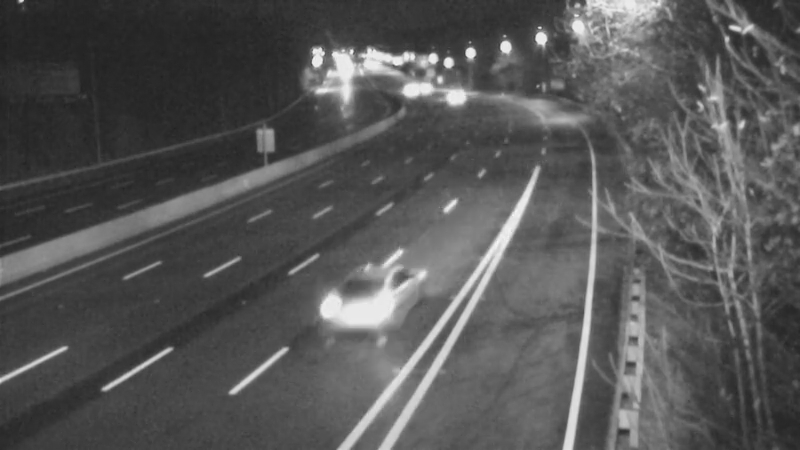vehicle: (330, 259, 410, 339), (405, 66, 455, 116), (382, 63, 432, 113), (430, 73, 480, 123)
